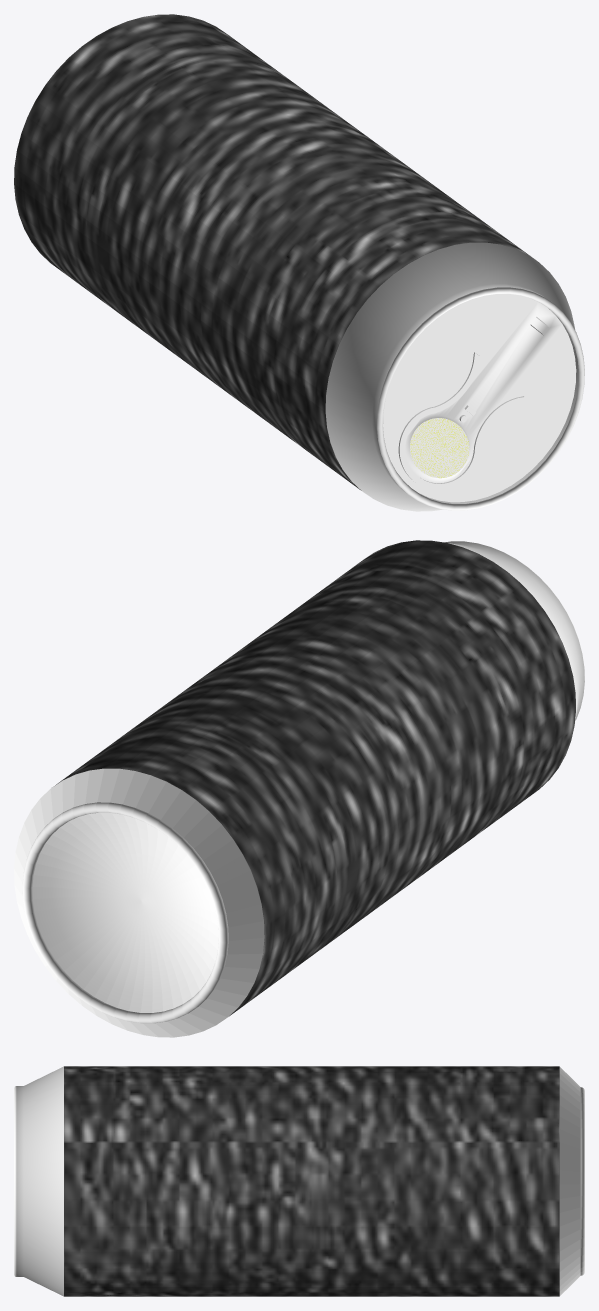
Rendered from model_scale.obj.
The picture shows the model from 3 angles, top to bottom: view 1: azimuth 30°, elevation 25°; view 2: azimuth 150°, elevation 25°; view 3: azimuth 270°, elevation 25°; orthographic projection. The views are drawn at different scales.
Visible parts, largest first — view 1: mesh285_mesh285-geometry; view 2: mesh285_mesh285-geometry; view 3: mesh285_mesh285-geometry.
Boxes of the visible parts, <box> form: mesh285_mesh285-geometry: <box>14,14,584,511</box>; mesh285_mesh285-geometry: <box>14,540,584,1037</box>; mesh285_mesh285-geometry: <box>14,1066,584,1296</box>.
Bounding box in the file's own units: 0.054 × 0.054 × 0.134.
